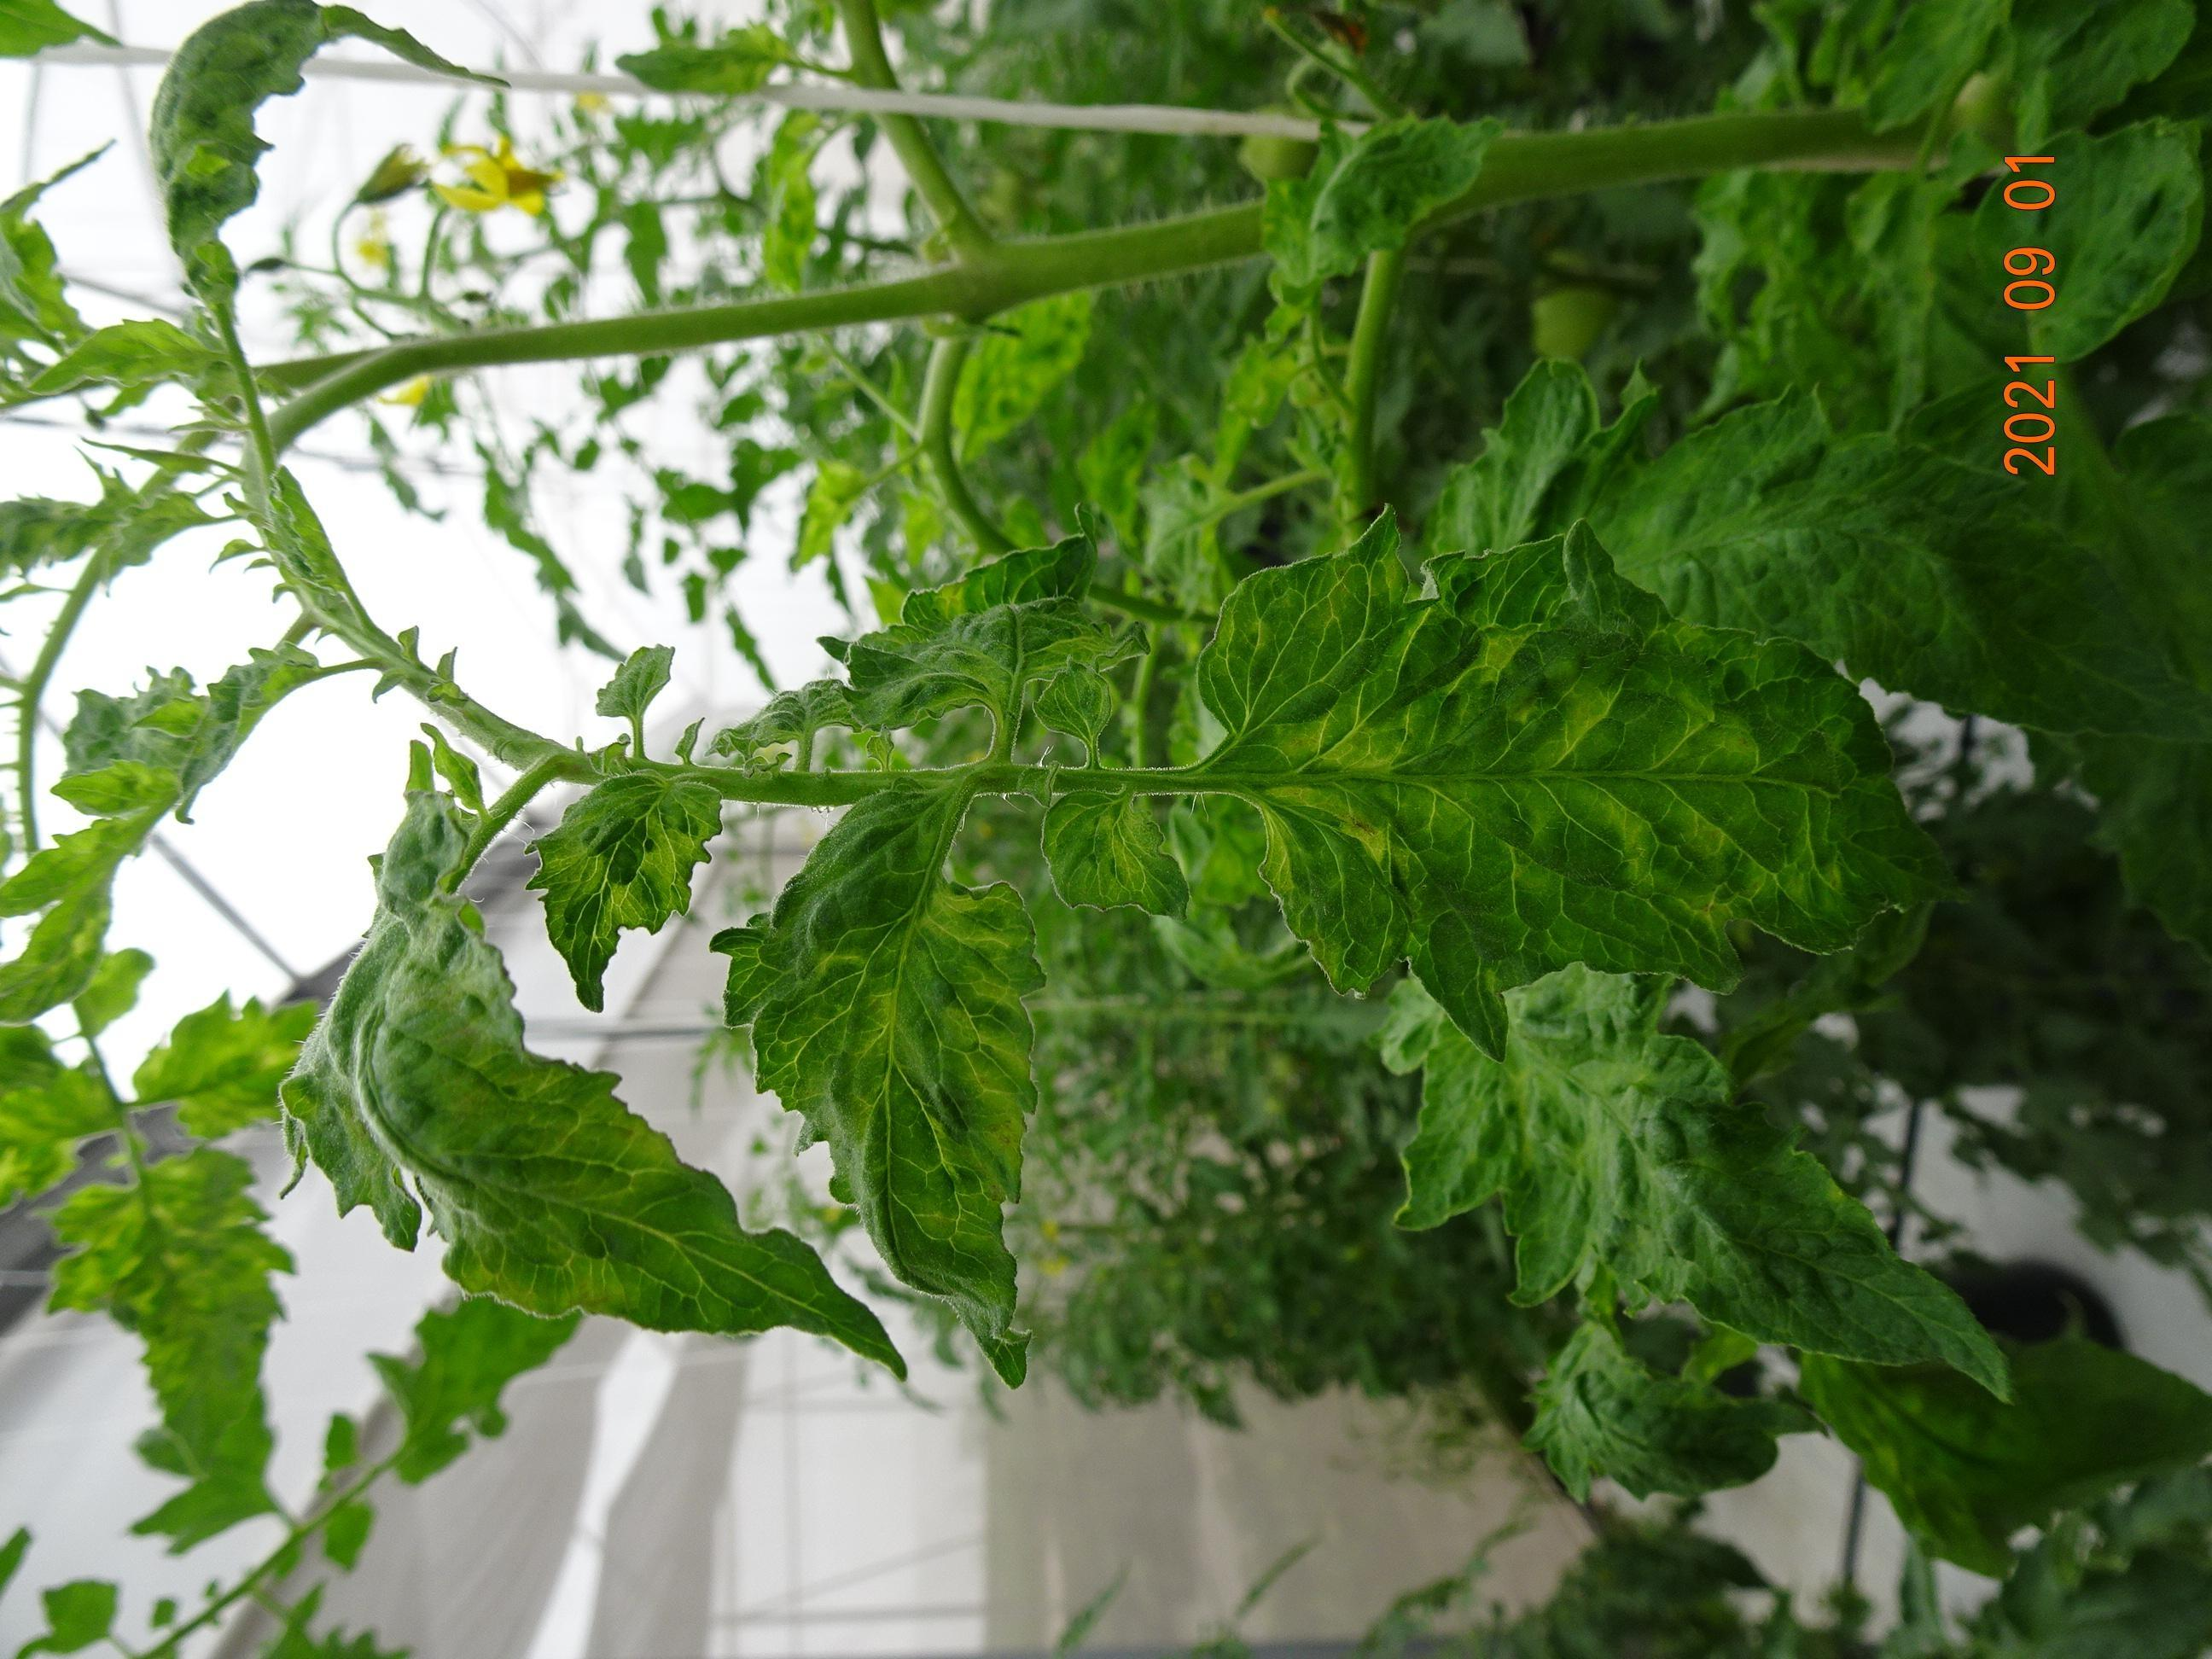Rugose leaf: (1179, 514, 1944, 1058), (280, 791, 899, 1364), (1383, 964, 2005, 1387), (726, 777, 1042, 1382), (829, 535, 1136, 760), (528, 774, 721, 1011), (1043, 789, 1188, 922), (1035, 667, 1111, 765)
